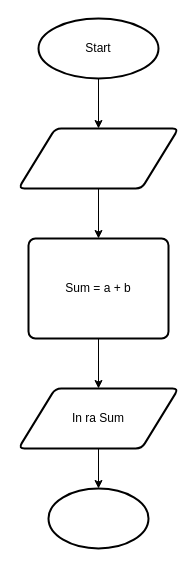
This 196x566 diagram has some shape labels left out. The shapes that lost their labels are listed below. From the top down, each one's box as (x1, y1, x2, y2) in pixels, then its label:
(17, 127, 179, 189): Input a, b
(47, 487, 149, 549): End
